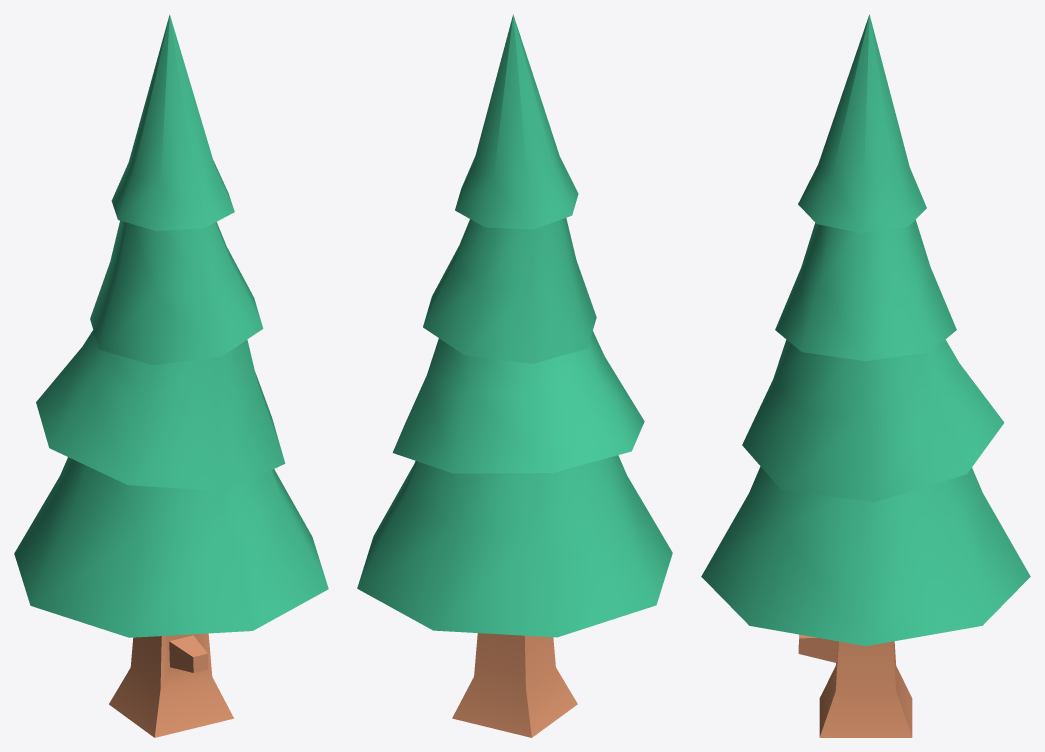
The model's file is treeCrooked.fbx.
3 views of the same model, side by side, from view 1: azimuth 30°, elevation 25°; view 2: azimuth 150°, elevation 25°; view 3: azimuth 270°, elevation 25° (orthographic).
Parts seen in each view (by area): view 1: treeCrooked; view 2: treeCrooked; view 3: treeCrooked.
Boxes of the visible parts, x1,y1,x2,y2 form: treeCrooked: [14, 14, 328, 737]; treeCrooked: [357, 14, 672, 737]; treeCrooked: [701, 14, 1030, 737].
Size of the model in its own units: 10.23 by 24.13 by 10.23.
